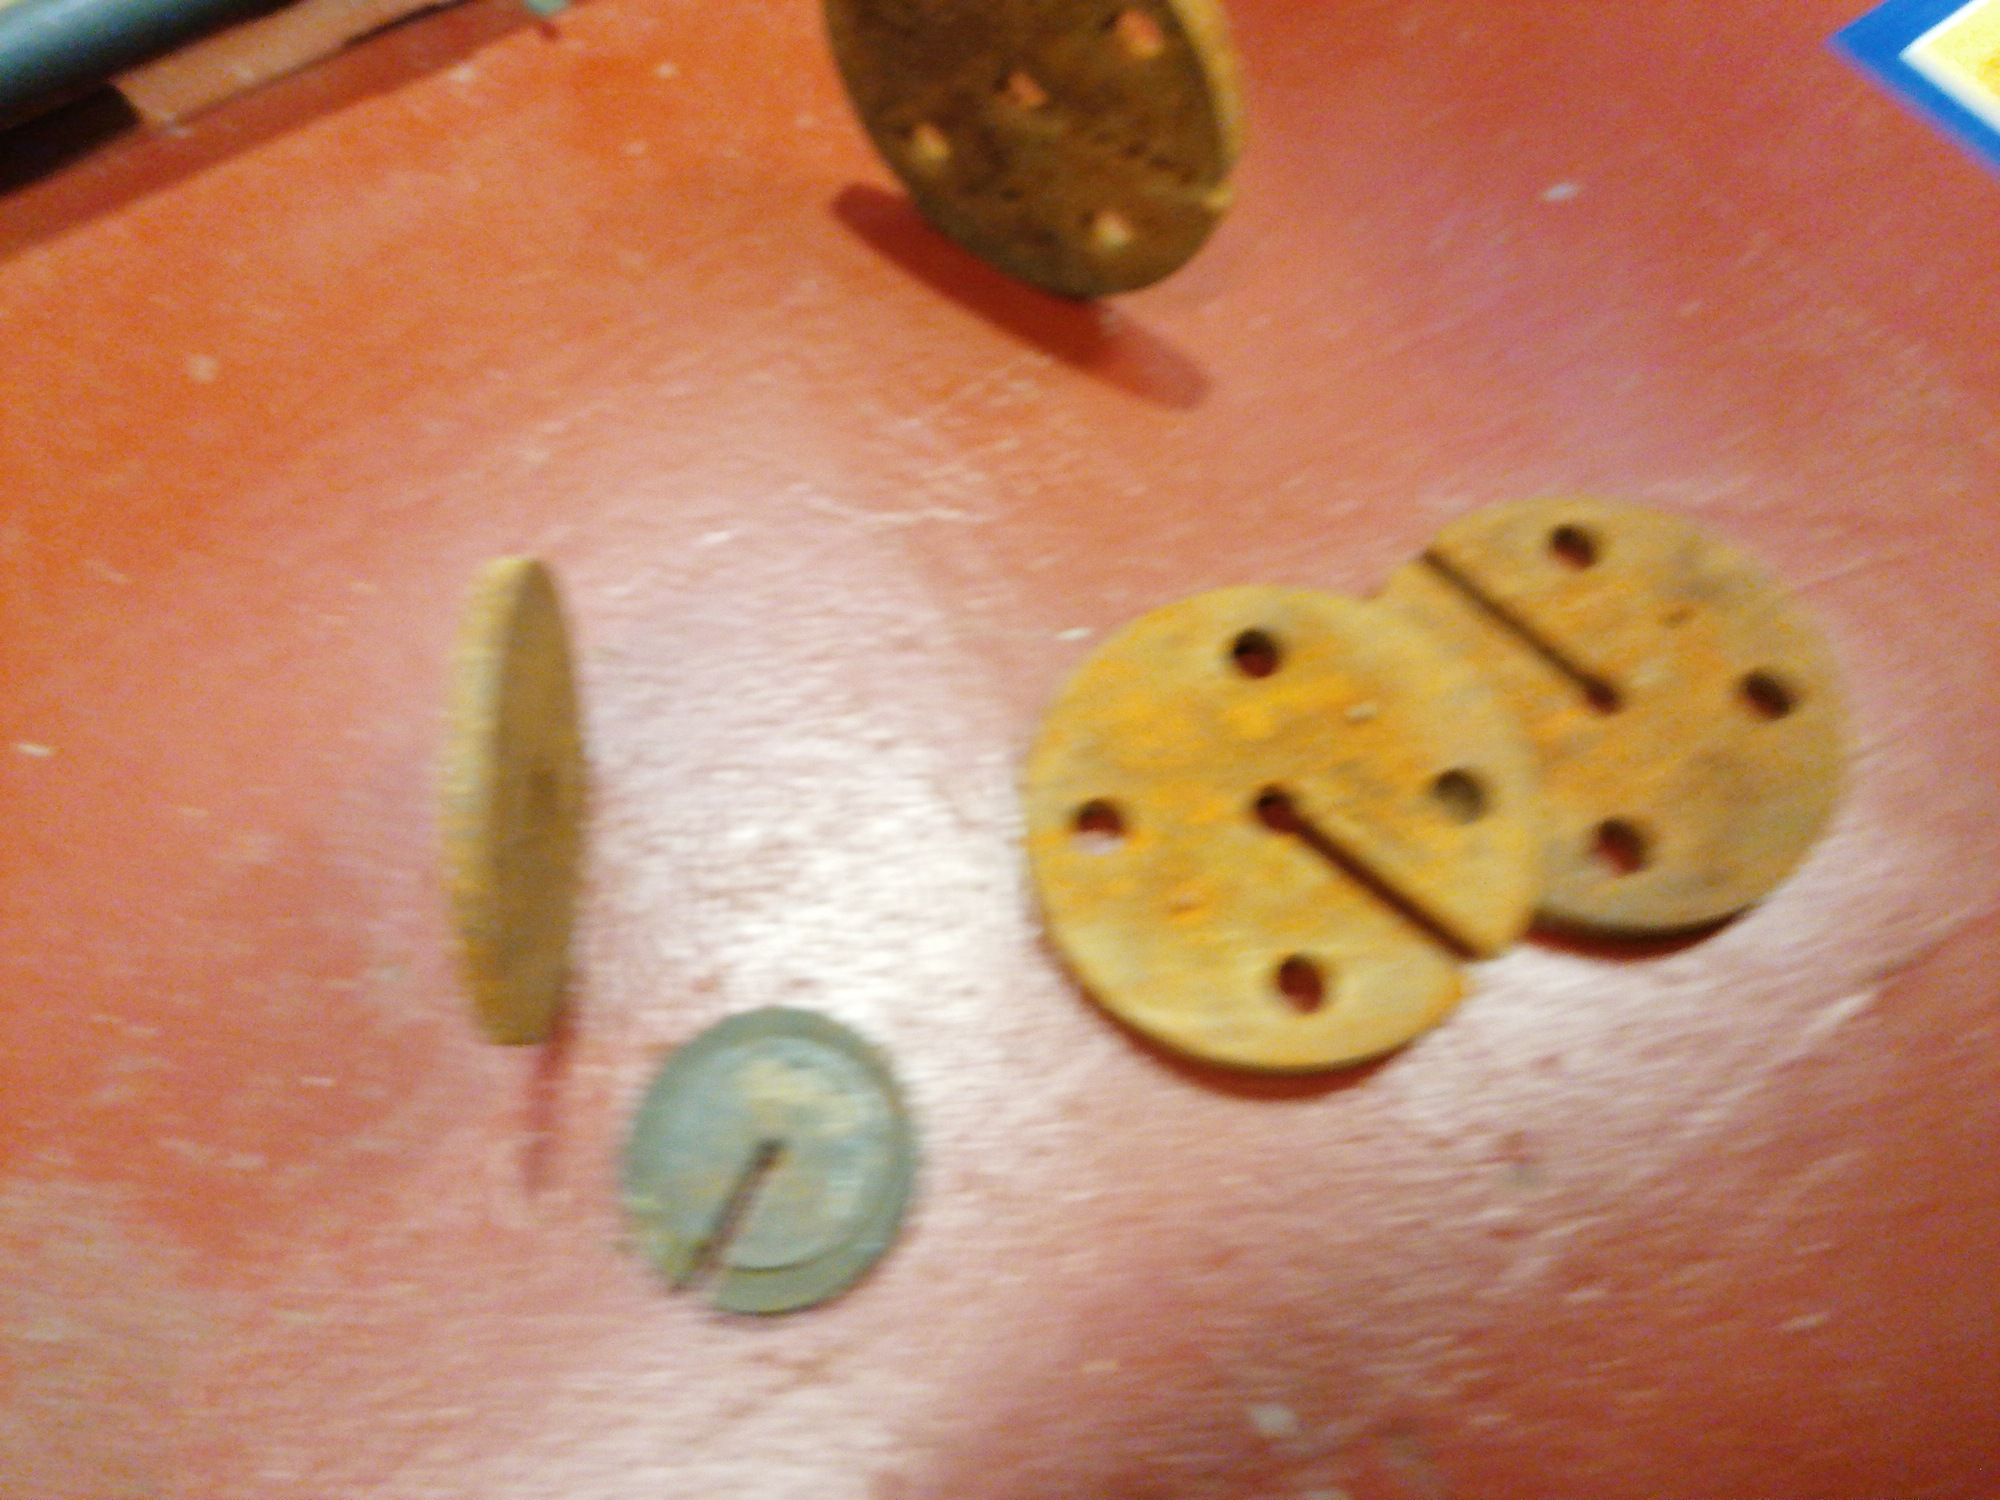flange: (1024, 580, 1540, 1082), (1378, 496, 1850, 955), (822, 2, 1246, 296), (614, 1005, 923, 1322), (443, 559, 587, 1041)
